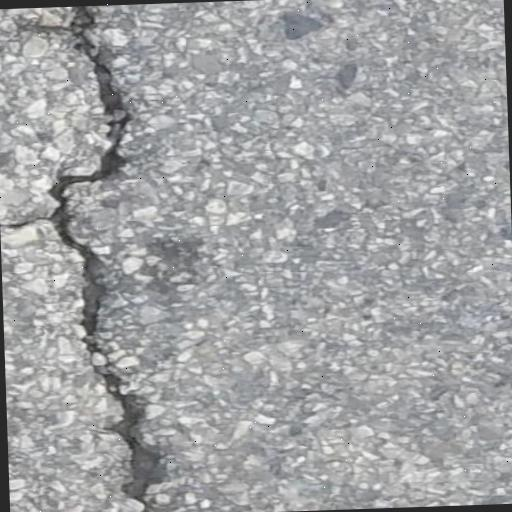spalling: (39, 10, 168, 512)
